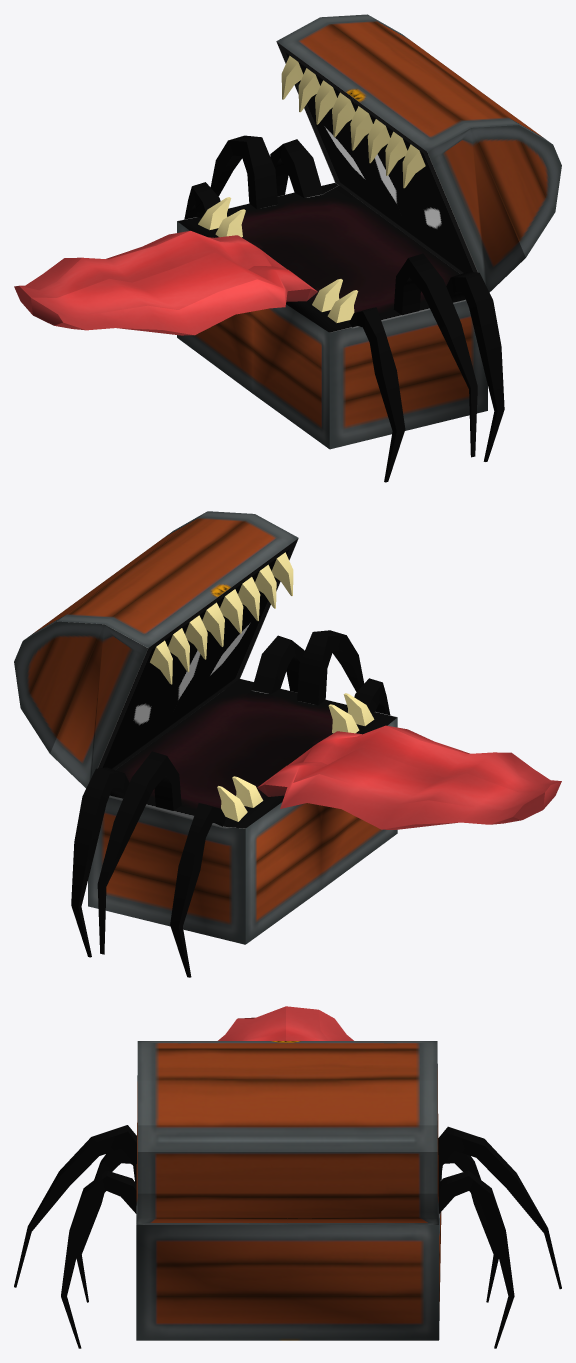
The model's file is cofrearana_000052.obj.
3 renders of one model, top to bottom at view 1: azimuth 30°, elevation 25°; view 2: azimuth 150°, elevation 25°; view 3: azimuth 270°, elevation 25°, orthographic.
Parts seen in each view (by area): view 1: cofreArana:Mesh; view 2: cofreArana:Mesh; view 3: cofreArana:Mesh.
Part boxes in pixels (x1,y1,x2,y2): cofreArana:Mesh: [14, 14, 561, 482]; cofreArana:Mesh: [14, 511, 561, 977]; cofreArana:Mesh: [14, 1006, 561, 1348].
Size of the model in its own units: 10.93 by 7.07 by 11.46.
